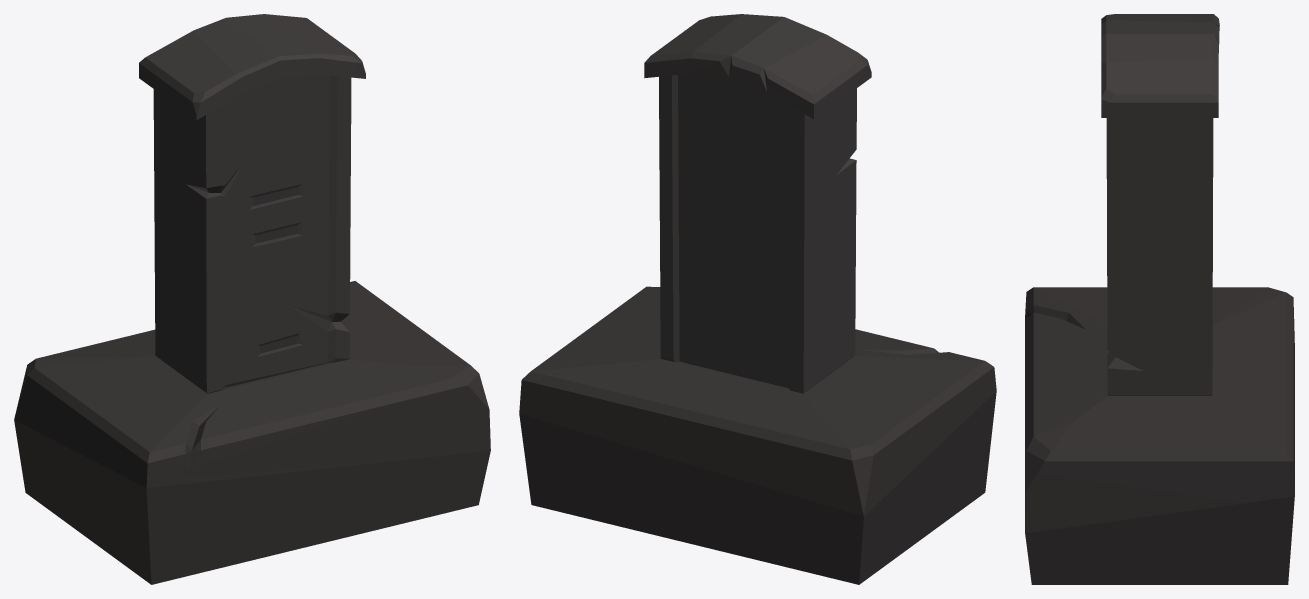
The model's file is TombFour.fbx.
3 views of the same model, side by side, from view 1: azimuth 30°, elevation 25°; view 2: azimuth 150°, elevation 25°; view 3: azimuth 270°, elevation 25° (orthographic).
Visible parts, largest first — view 1: gravestone_old_small_c__3_; view 2: gravestone_old_small_c__3_; view 3: gravestone_old_small_c__3_.
Boxes of the visible parts, x1,y1,x2,y2 form: gravestone_old_small_c__3_: (14, 14, 490, 584); gravestone_old_small_c__3_: (519, 14, 996, 584); gravestone_old_small_c__3_: (1025, 14, 1294, 584).
Size of the model in its own units: 3030 by 3883 by 2020.
